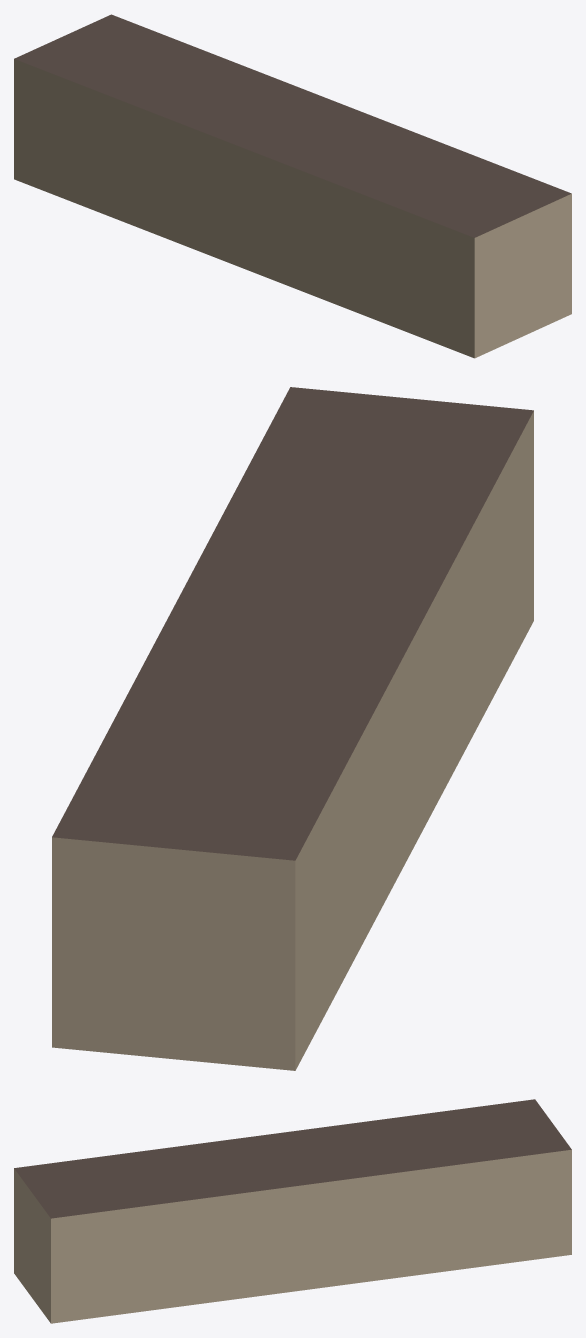
3 views of the same model, one above another, from view 1: azimuth 30°, elevation 25°; view 2: azimuth 150°, elevation 25°; view 3: azimuth 270°, elevation 25° (orthographic). The views are drawn at different scales.
Visible parts, largest first — view 1: HP-w859088518; view 2: HP-w859088518; view 3: HP-w859088518.
Boxes of the visible parts, x1,y1,x2,y2 form: HP-w859088518: (14, 14, 571, 358); HP-w859088518: (52, 387, 533, 1070); HP-w859088518: (14, 1099, 571, 1323).
Bounding box in the file's own units: 21.92 × 9 × 43.3.
